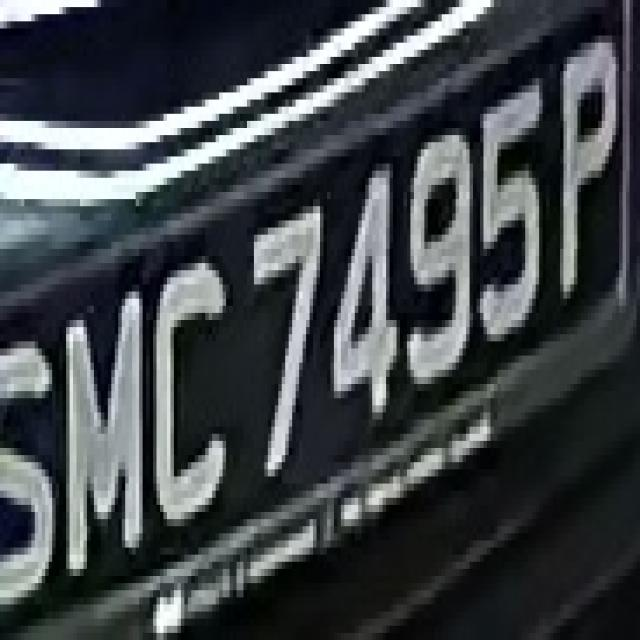4: (324, 135, 404, 448)
5: (480, 71, 539, 356)
7: (240, 192, 330, 498)
9: (389, 121, 476, 391)
C: (143, 242, 233, 540)
M: (59, 270, 143, 569)
P: (550, 28, 636, 320)
S: (0, 284, 52, 633)
